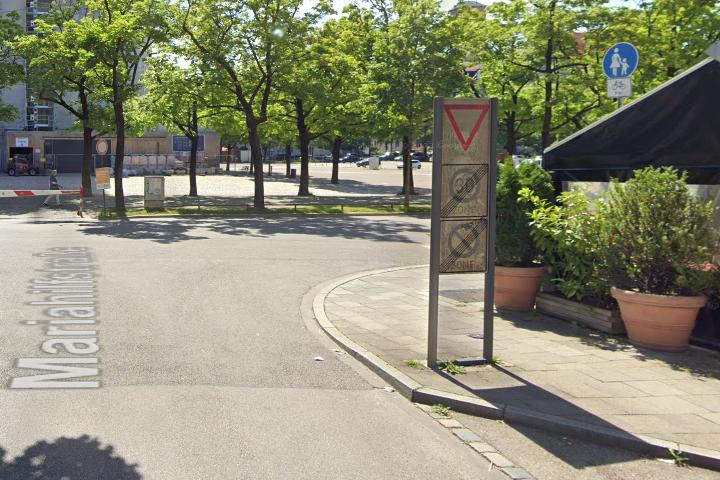traffic_sign: (443, 104, 490, 150), (602, 42, 639, 79), (448, 166, 481, 203), (447, 223, 480, 257), (95, 139, 109, 156)
